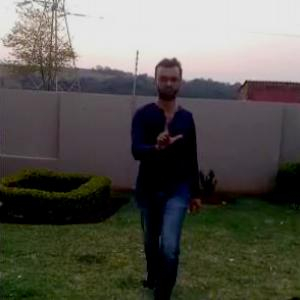land_hand: (151, 111, 187, 153)
